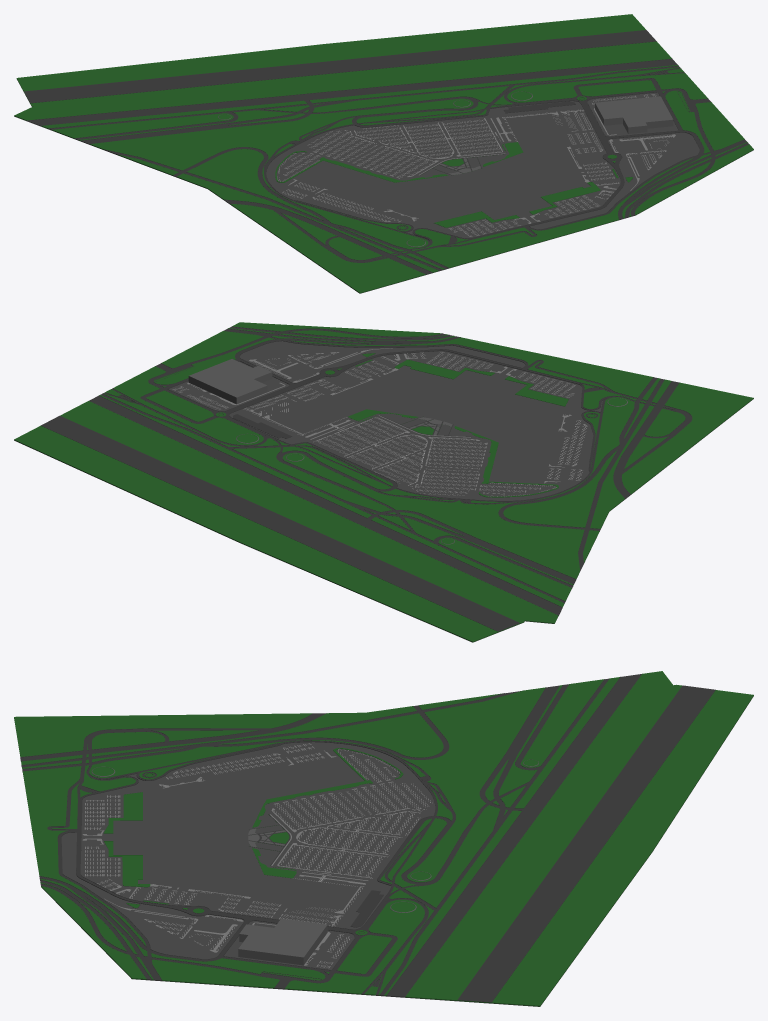
File: all.FBX
3 views of the same model, one above another, from view 1: azimuth 30°, elevation 25°; view 2: azimuth 150°, elevation 25°; view 3: azimuth 270°, elevation 25° (orthographic). The views are drawn at different scales.
Parts seen in each view (by area): view 1: Green, Ground, Road, Parking, Object001, Enter; view 2: Green, Ground, Road, Parking, Object001, Enter; view 3: Green, Ground, Road, Parking, Object001, Enter.
Boxes of the visible parts, x1,y1,x2,y2 form: Green: (14, 14, 753, 293); Ground: (14, 82, 753, 293); Road: (24, 30, 749, 274); Parking: (442, 94, 675, 236); Object001: (278, 122, 505, 222); Enter: (401, 154, 505, 181); Green: (14, 322, 753, 642); Ground: (14, 341, 753, 642); Road: (41, 326, 692, 631); Parking: (172, 348, 575, 456); Object001: (347, 414, 587, 496); Enter: (379, 413, 492, 441); Green: (14, 671, 753, 1006); Ground: (40, 696, 753, 1006); Road: (20, 674, 715, 1002); Parking: (82, 795, 385, 968); Object001: (159, 743, 430, 865); Enter: (248, 803, 293, 865).
Size of the model in its own units: 10.05 by 0.1241 by 9.38.
